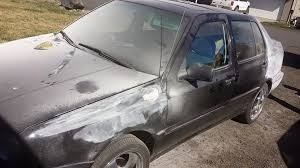Dent: (28, 77, 174, 142), (43, 45, 78, 83), (72, 79, 106, 95)
